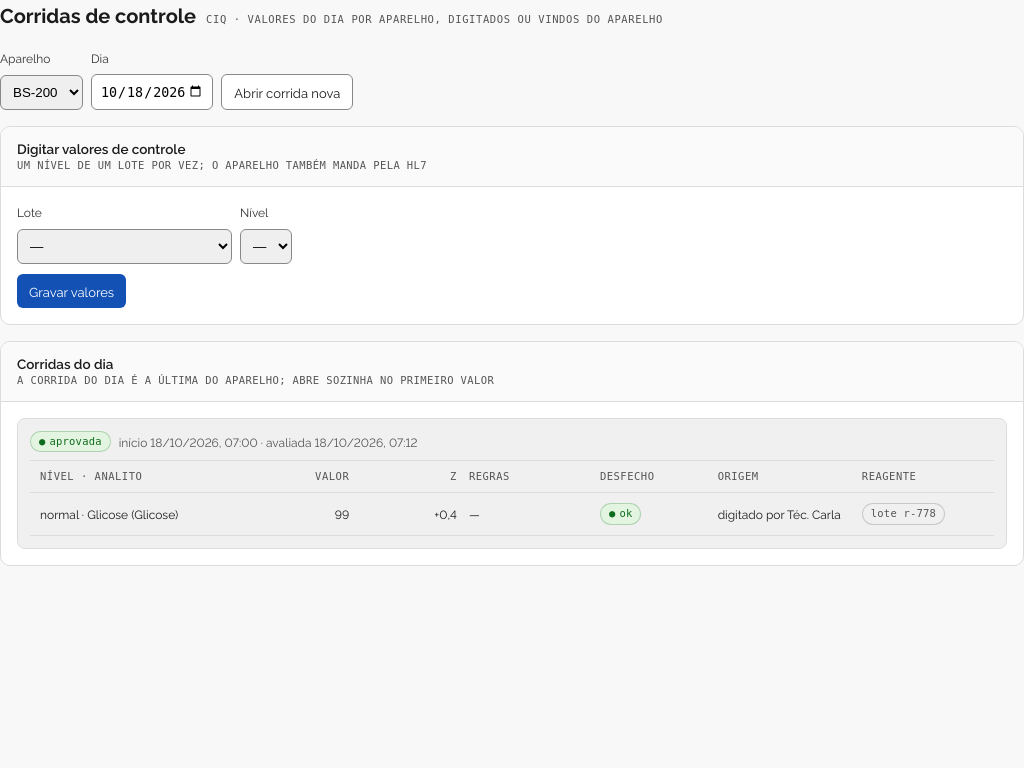
Test: LabQcRuns › aviso de ação corretiva pendente vem do notice, não de um código de erro
Select "L2026A · Controle bioquímico" in the dropdown labelled "Lote": (124, 246) [17,228,232,264]
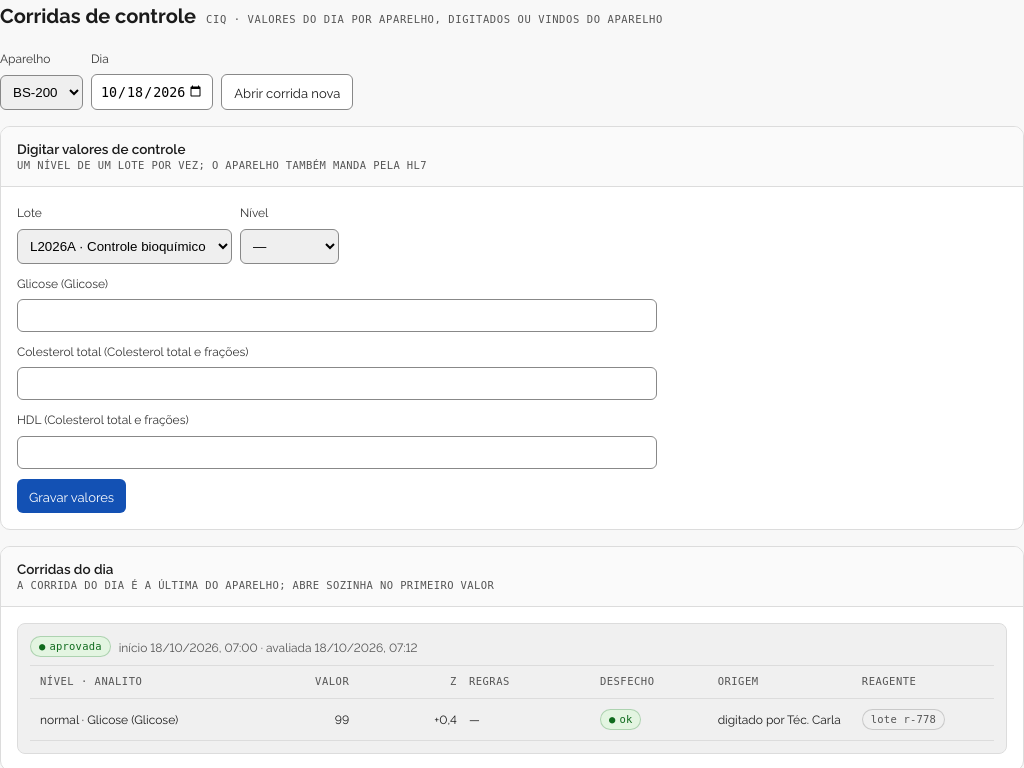
Select "normal" in the dropdown labelled "Nível": (290, 246) [240,228,339,264]
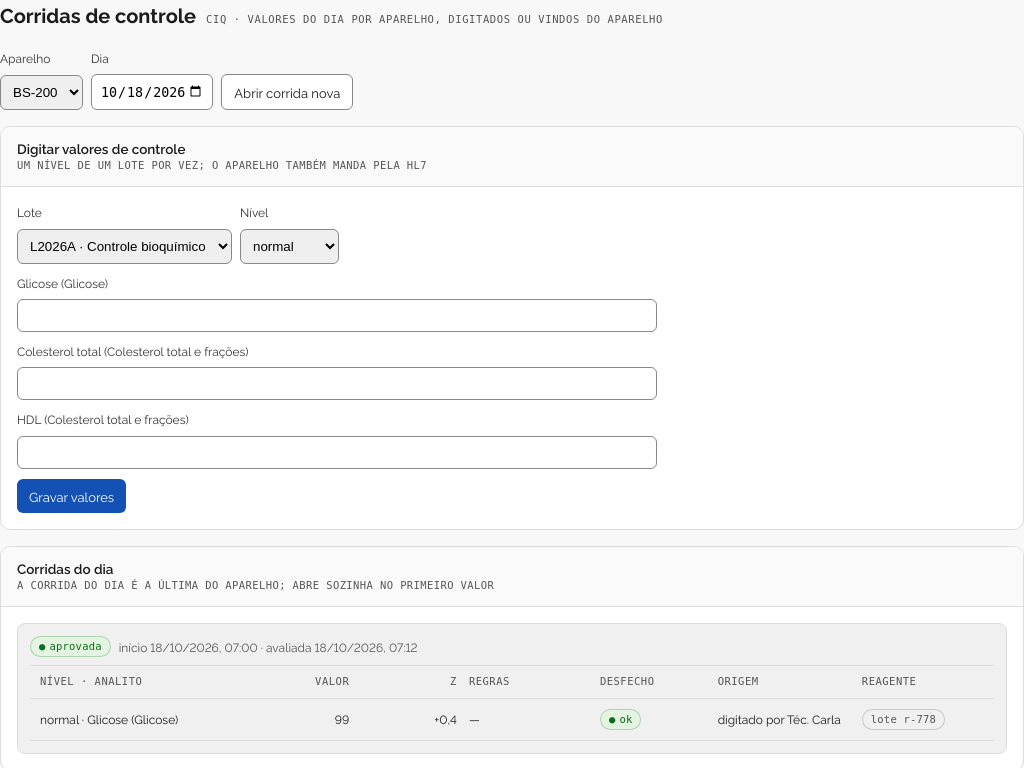
In the field labelled "Glicose (Glicose)": (337, 315) [17,299,657,332], type "98"
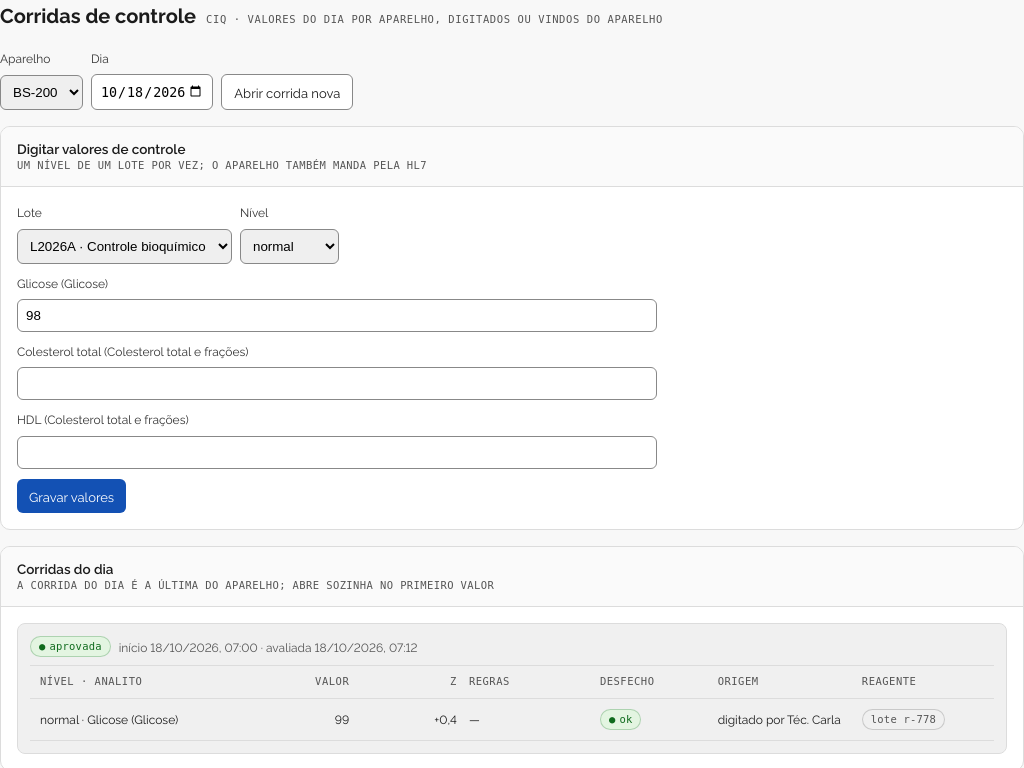
Click the button "Gravar valores": click(72, 496) [17,479,126,513]
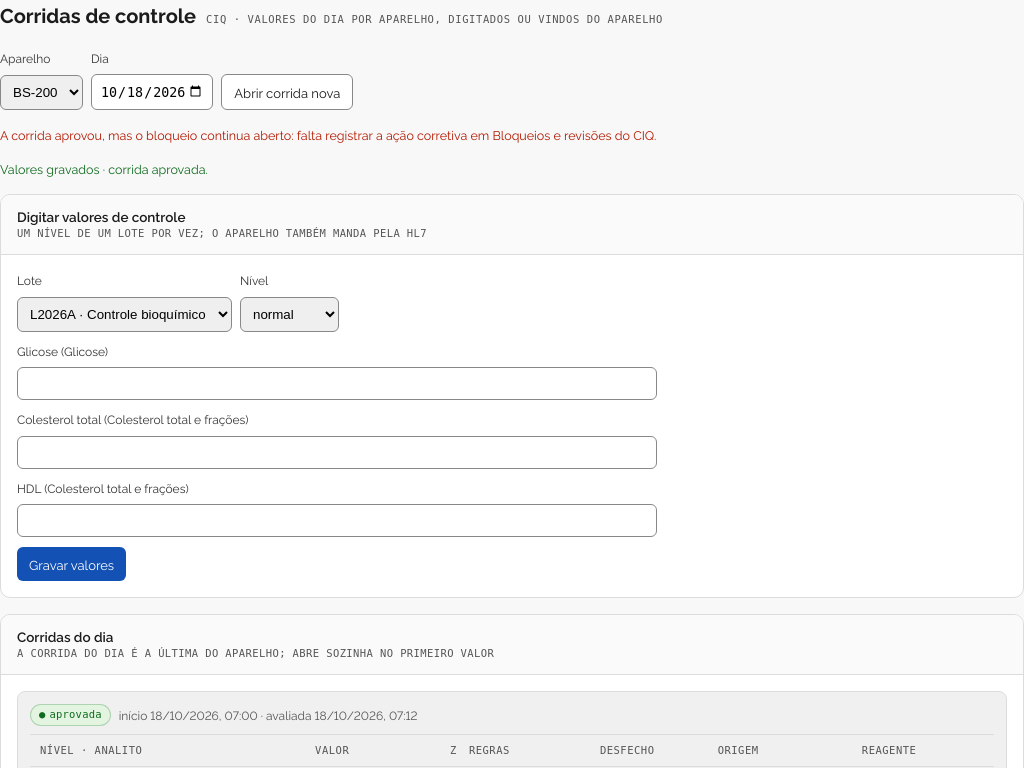
Expected: the message named "ação corretiva pendente" shows "o bloqueio continua aberto", [0,126,656,143]
